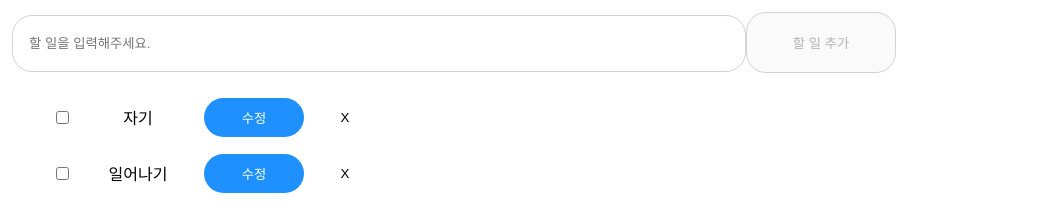
Test: 할 일 목록 페이지 › 수정 버튼을 클릭하면 › 수정용 인풋과 버튼, 취소 버튼이 화면에 보인다.
Click the button with test id "modify-button" next to "자기": (254, 117) [204,98,304,136]
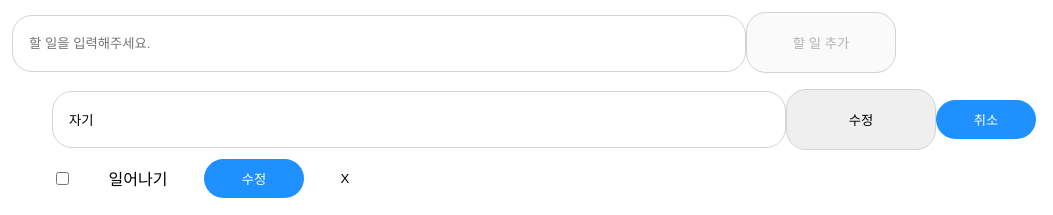
Expected: the button with test id "submit-button" is shown, [786,89,936,150]
Expected: the field with test id "modify-input" is shown, [52,91,786,148]
Expected: the button with test id "cancel-button" is shown, [936,100,1036,139]
